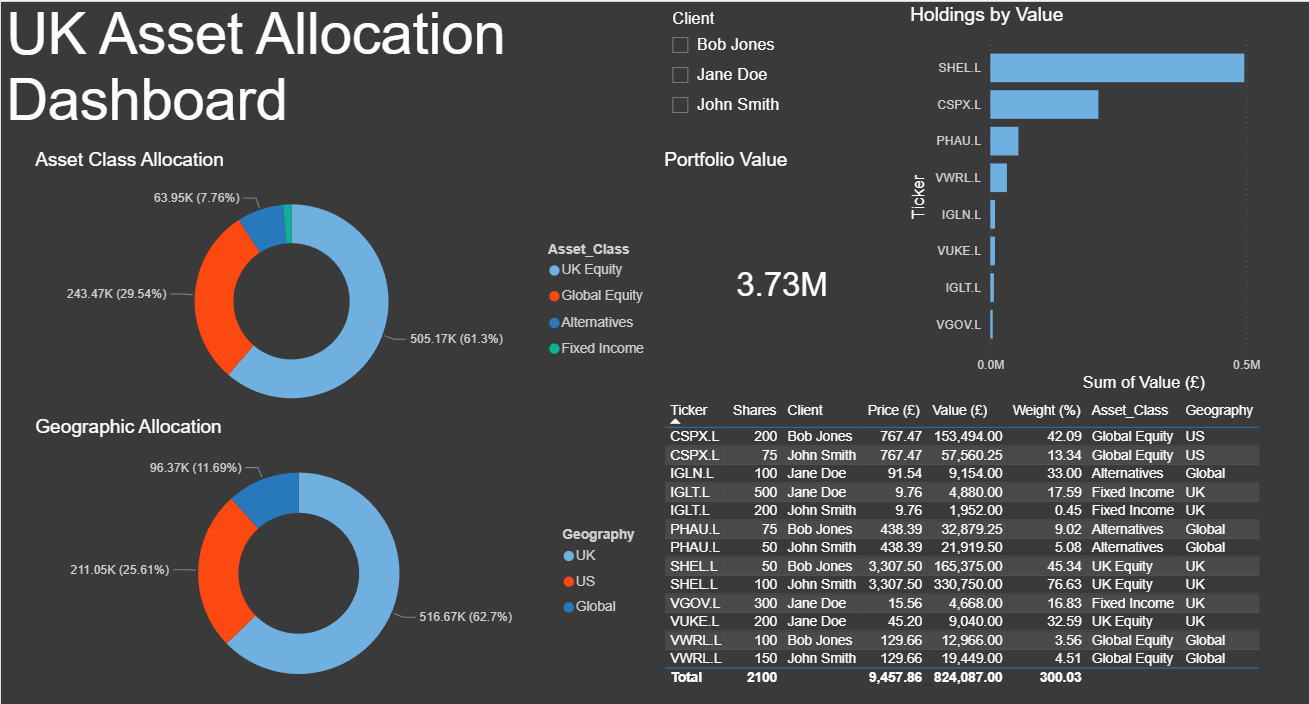

This screenshot's page, from the dashboard's own definition file:
{"tool":"powerbi","page":{"name":"Page 1","canvas":[1280,720],"ordinal":0},"visuals":[{"type":"slicer","fields":{"Values":["powerbi_feed.Client"]},"box":[640,34,239.3,141],"z":0},{"type":"card","title":"Portfolio Value","fields":{"Values":["Sum(powerbi_feed.Total Value (£))"]},"box":[640,175.1,239.3,240.2],"z":2},{"type":"donutChart","title":"Asset Class Allocation","fields":{"Category":["powerbi_feed.Asset_Class"],"Y":["Sum(powerbi_feed.Value (£))"]},"box":[28.2,175.1,611.8,275.3],"z":3},{"type":"donutChart","title":"Geographic Allocation","fields":{"Category":["powerbi_feed.Geography"],"Y":["Sum(powerbi_feed.Value (£))"]},"box":[28.2,434.8,611.8,285],"z":4},{"type":"clusteredBarChart","title":"Holdings by Value","fields":{"Category":["powerbi_feed.Ticker"],"Y":["Sum(powerbi_feed.Value (£))"]},"box":[879.3,34,400.7,381.3],"z":5},{"type":"tableEx","fields":{"Values":["powerbi_feed.Ticker","Sum(powerbi_feed.Shares)","powerbi_feed.Client","Sum(powerbi_feed.Price (£))","Sum(powerbi_feed.Value (£))","Sum(powerbi_feed.Weight (%))","powerbi_feed.Asset_Class","powerbi_feed.Geography"]},"box":[640,415.3,640,304.4],"z":6},{"type":"textbox","box":[0,25.3,640,149.8],"z":7}]}

Visuals, with their boxes on the page's 1280x720 design canvas (x1, y1, x2, y2). These are canvas units, not pixel positions in the 1309x704 screenshot, which may show the page scaled, cropped or inside an application window:
slicer - powerbi_feed.Client: [640, 34, 879, 175]
"Portfolio Value" card: [640, 175, 879, 415]
"Asset Class Allocation" donutChart: [28, 175, 640, 450]
"Geographic Allocation" donutChart: [28, 435, 640, 720]
"Holdings by Value" clusteredBarChart: [879, 34, 1280, 415]
tableEx - powerbi_feed.Ticker x Sum(powerbi_feed.Shares): [640, 415, 1280, 720]
textbox: [0, 25, 640, 175]
